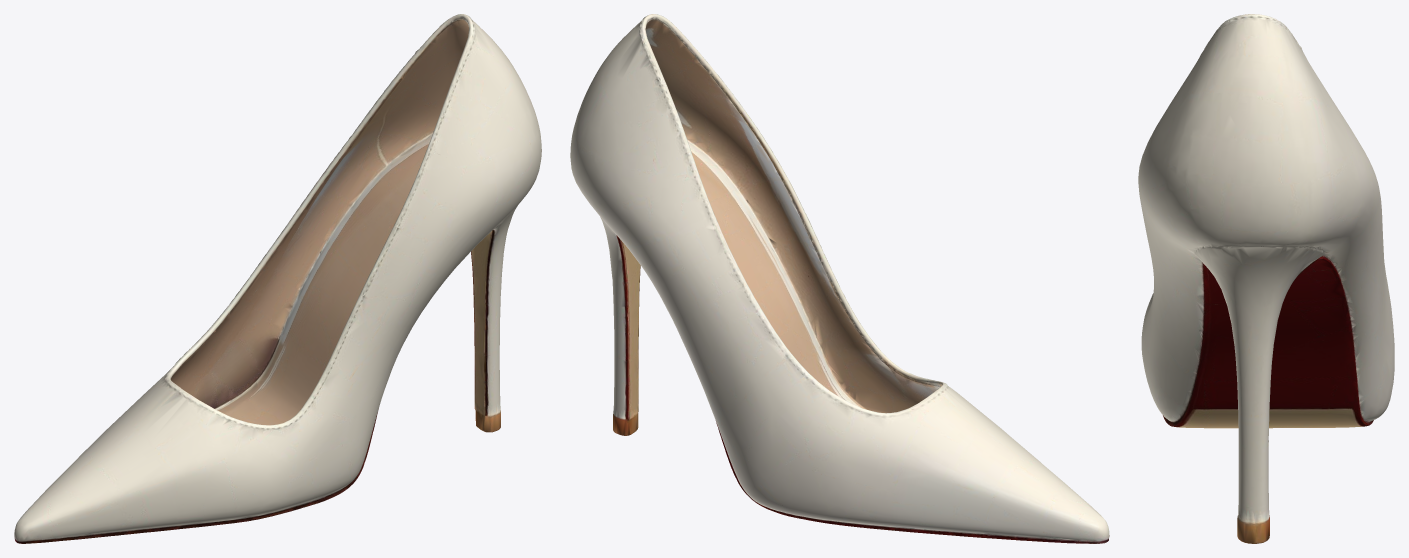
Rendered from stiletto_heel.glb.
3 views of the same model, side by side, from view 1: azimuth 30°, elevation 25°; view 2: azimuth 150°, elevation 25°; view 3: azimuth 270°, elevation 25° (orthographic). The views are drawn at different scales.
Bounding box in the file's own units: 1.9 × 1.46 × 0.6649.
Materials: 1 (1 with a texture image).
